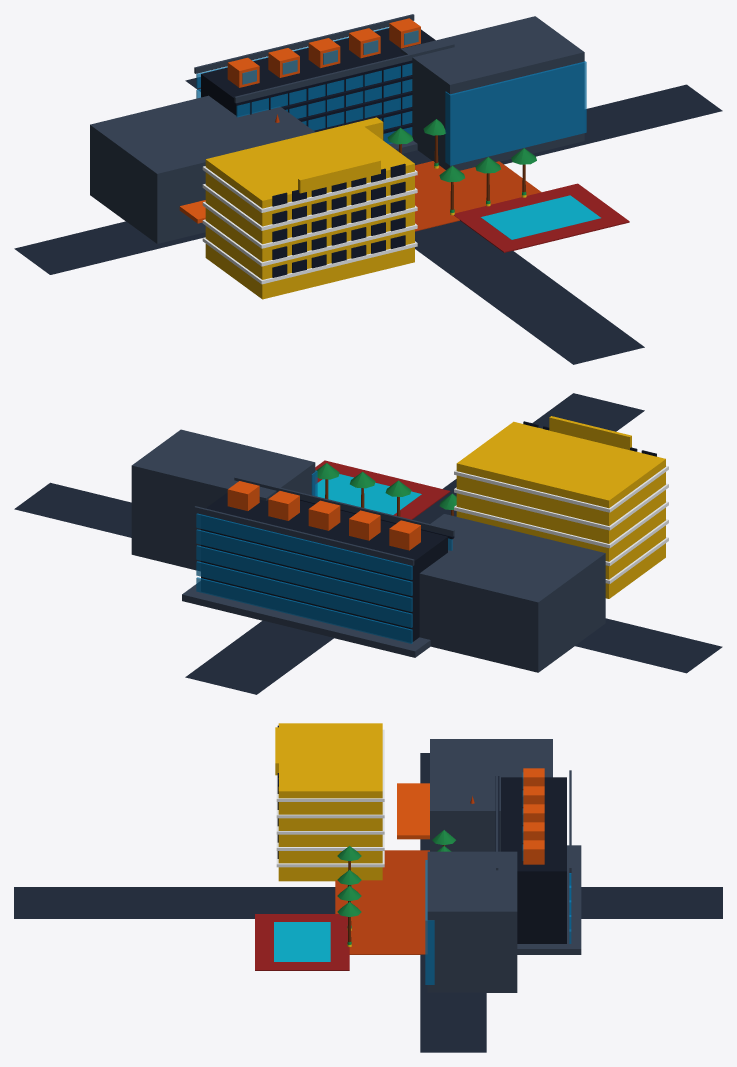
Rendered from mgr_campus_detailed.glb.
3 renders of one model, top to bottom at view 1: azimuth 30°, elevation 25°; view 2: azimuth 150°, elevation 25°; view 3: azimuth 270°, elevation 25°, orthographic. The views are drawn at different scales.
Parts seen in each view (by area): view 1: BUILDING_MGR-VOC-03, BUILDING_MGR-KALAM-06, BUILDING_MGR-ADMIN-01, BUILDING_MGR-AUD-07, object 8, object 9, BUILDING_MGR-SPORTS-04, BUILDING_MGR-PROMENADE-05; view 2: BUILDING_MGR-ADMIN-01, BUILDING_MGR-VOC-03, BUILDING_MGR-AUD-07, BUILDING_MGR-KALAM-06, object 8, object 9, BUILDING_MGR-SPORTS-04, BUILDING_MGR-PROMENADE-05; view 3: BUILDING_MGR-VOC-03, object 8, BUILDING_MGR-KALAM-06, BUILDING_MGR-ADMIN-01, BUILDING_MGR-AUD-07, BUILDING_MGR-PROMENADE-05, BUILDING_MGR-SPORTS-04, object 9.
Boxes of the visible parts, x1=… form: BUILDING_MGR-VOC-03: x1=202, y1=122, x2=417, y2=299; BUILDING_MGR-KALAM-06: x1=400, y1=16, x2=586, y2=170; BUILDING_MGR-ADMIN-01: x1=194, y1=14, x2=454, y2=153; BUILDING_MGR-AUD-07: x1=90, y1=95, x2=314, y2=243; object 8: x1=185, y1=77, x2=644, y2=364; object 9: x1=14, y1=84, x2=722, y2=274; BUILDING_MGR-SPORTS-04: x1=454, y1=183, x2=629, y2=252; BUILDING_MGR-PROMENADE-05: x1=387, y1=119, x2=541, y2=231; BUILDING_MGR-ADMIN-01: x1=182, y1=477, x2=454, y2=657; BUILDING_MGR-VOC-03: x1=454, y1=416, x2=668, y2=598; BUILDING_MGR-AUD-07: x1=419, y1=514, x2=605, y2=672; BUILDING_MGR-KALAM-06: x1=131, y1=429, x2=317, y2=570; object 8: x1=185, y1=393, x2=644, y2=694; object 9: x1=14, y1=482, x2=722, y2=673; BUILDING_MGR-SPORTS-04: x1=315, y1=460, x2=450, y2=519; BUILDING_MGR-PROMENADE-05: x1=315, y1=463, x2=456, y2=516; BUILDING_MGR-VOC-03: x1=275, y1=723, x2=384, y2=881; object 8: x1=14, y1=887, x2=722, y2=918; BUILDING_MGR-KALAM-06: x1=425, y1=851, x2=517, y2=992; BUILDING_MGR-ADMIN-01: x1=495, y1=768, x2=581, y2=954; BUILDING_MGR-AUD-07: x1=397, y1=739, x2=552, y2=851; BUILDING_MGR-PROMENADE-05: x1=335, y1=830, x2=455, y2=954; BUILDING_MGR-SPORTS-04: x1=255, y1=914, x2=349, y2=970; object 9: x1=420, y1=753, x2=486, y2=1052.
Size of the model in its own units: 150 by 23.97 by 150.
